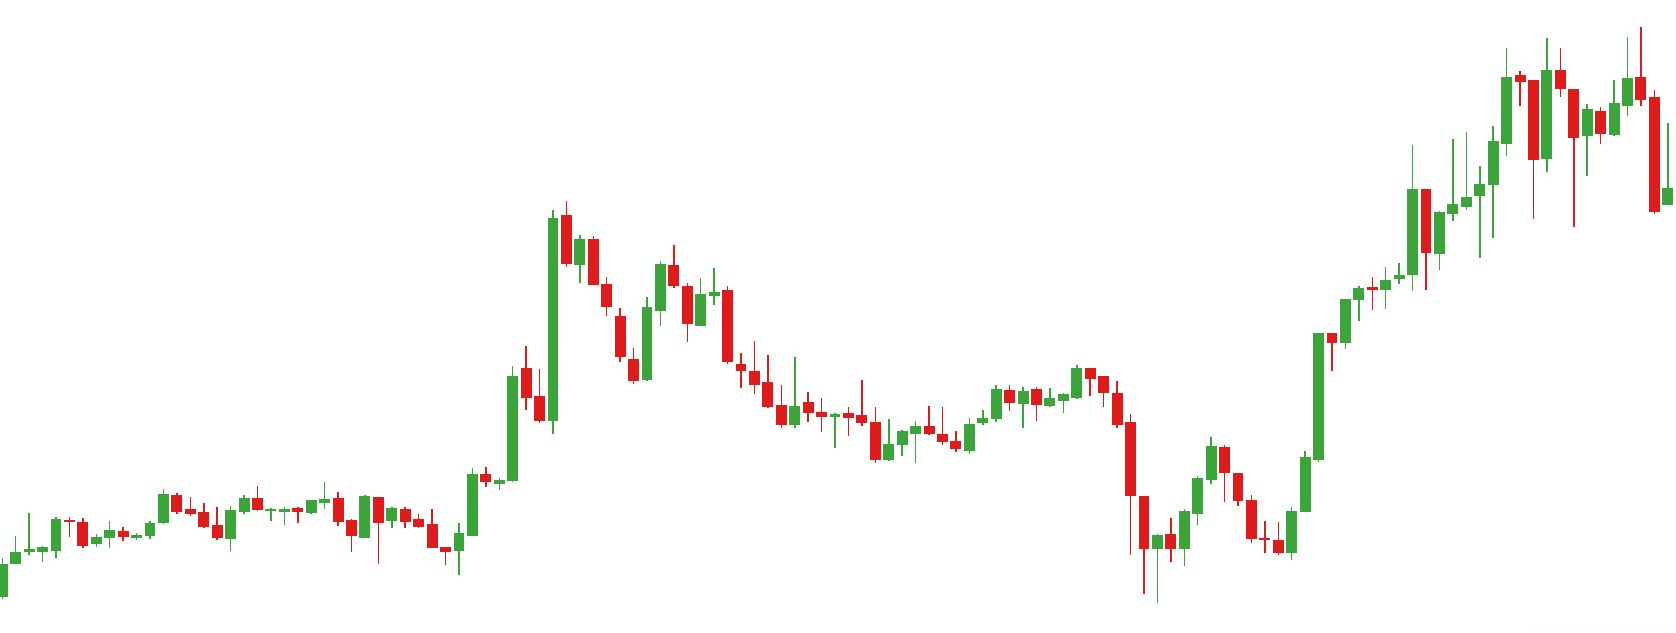buy: (372, 504, 465, 583)
